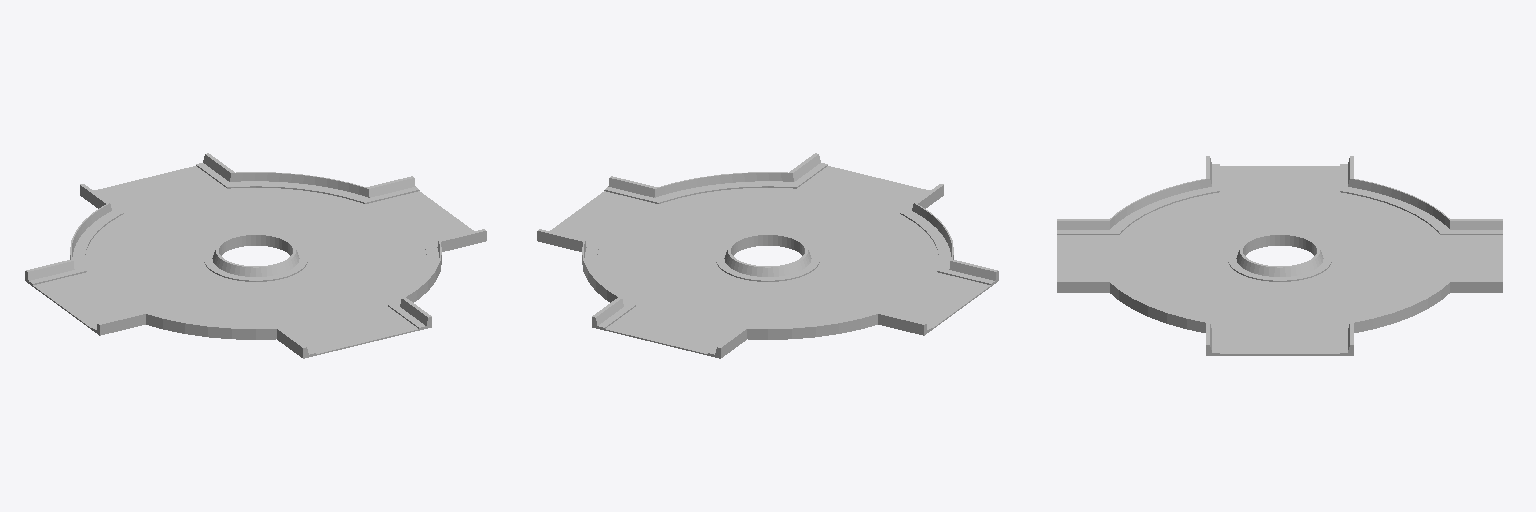
The model's file is road_roundabout.obj.
3 renders of one model, left to right at view 1: azimuth 30°, elevation 25°; view 2: azimuth 150°, elevation 25°; view 3: azimuth 270°, elevation 25°, orthographic.
Parts seen in each view (by area): view 1: road_roundabout, road_roundaboutBarrier; view 2: road_roundabout, road_roundaboutBarrier; view 3: road_roundabout, road_roundaboutBarrier.
Boxes of the visible parts, <box> form: road_roundabout: <box>25,163,486,358</box>; road_roundaboutBarrier: <box>25,153,486,357</box>; road_roundabout: <box>537,163,998,358</box>; road_roundaboutBarrier: <box>537,153,998,358</box>; road_roundabout: <box>1057,164,1502,355</box>; road_roundaboutBarrier: <box>1057,156,1502,355</box>.
Size of the model in its own units: 3 by 0.08 by 3.